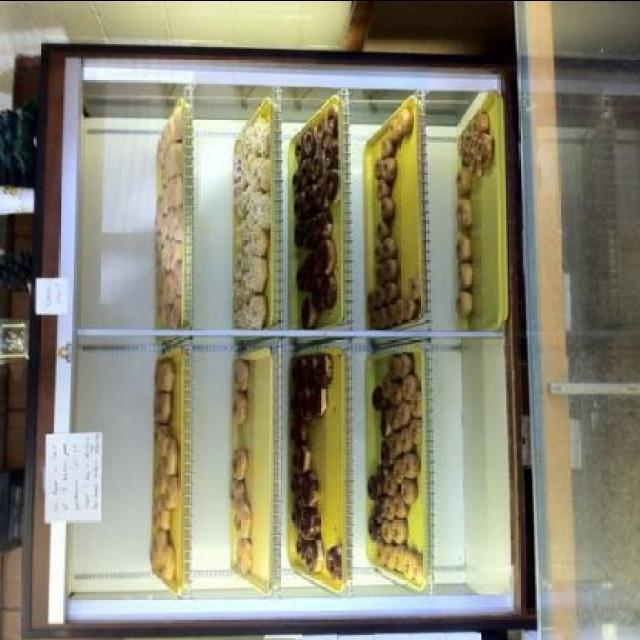Donuts: (150, 82, 506, 598)
